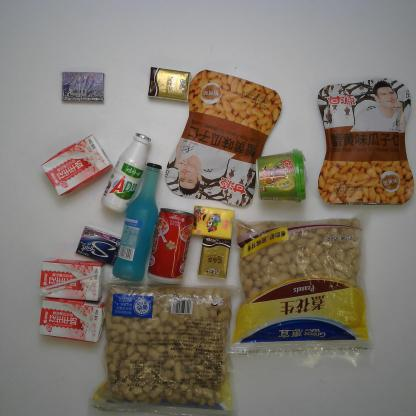Alcohol: (110, 160, 165, 284)
Canned Food: (145, 204, 198, 288)
Dried Food: (216, 207, 383, 383), (80, 269, 250, 416)
Dried Fruit: (162, 67, 284, 209), (314, 75, 415, 208)
Gum: (74, 224, 124, 268), (60, 70, 107, 104)
Instant Drink: (252, 146, 309, 208)
Milk: (36, 132, 116, 199), (98, 130, 154, 216), (36, 255, 107, 303), (36, 296, 107, 344)
Tissue: (144, 65, 195, 104), (189, 204, 237, 244), (197, 234, 232, 281)
